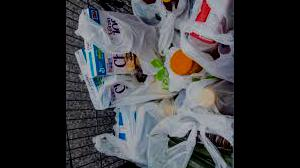Plastic: (81, 4, 165, 105), (146, 102, 234, 167), (102, 99, 161, 158), (183, 0, 234, 64)
